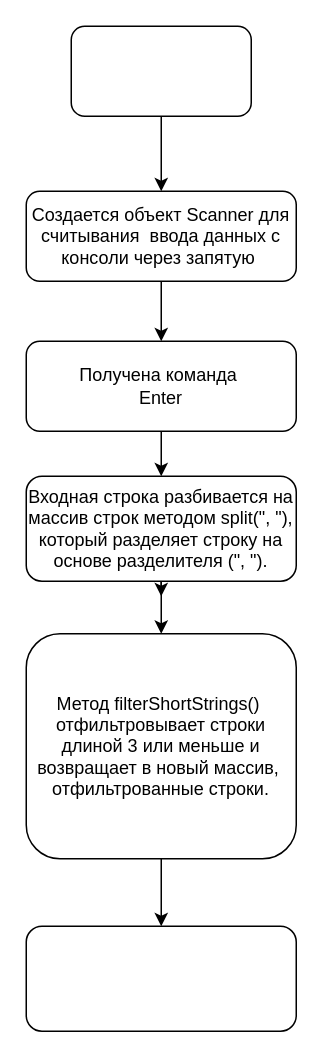
Image size: 323x1058. Some labels were removed from this diagram. The shapes that lost their labels are listed below. From the top down, each one's box as (x1, y1, x2, y2) in pixels, then its label:
(70, 25, 251, 116): Начало программы Oбъявление класса Main.
(25, 925, 296, 1031): Отфильтрованный массив выводится в terminal
